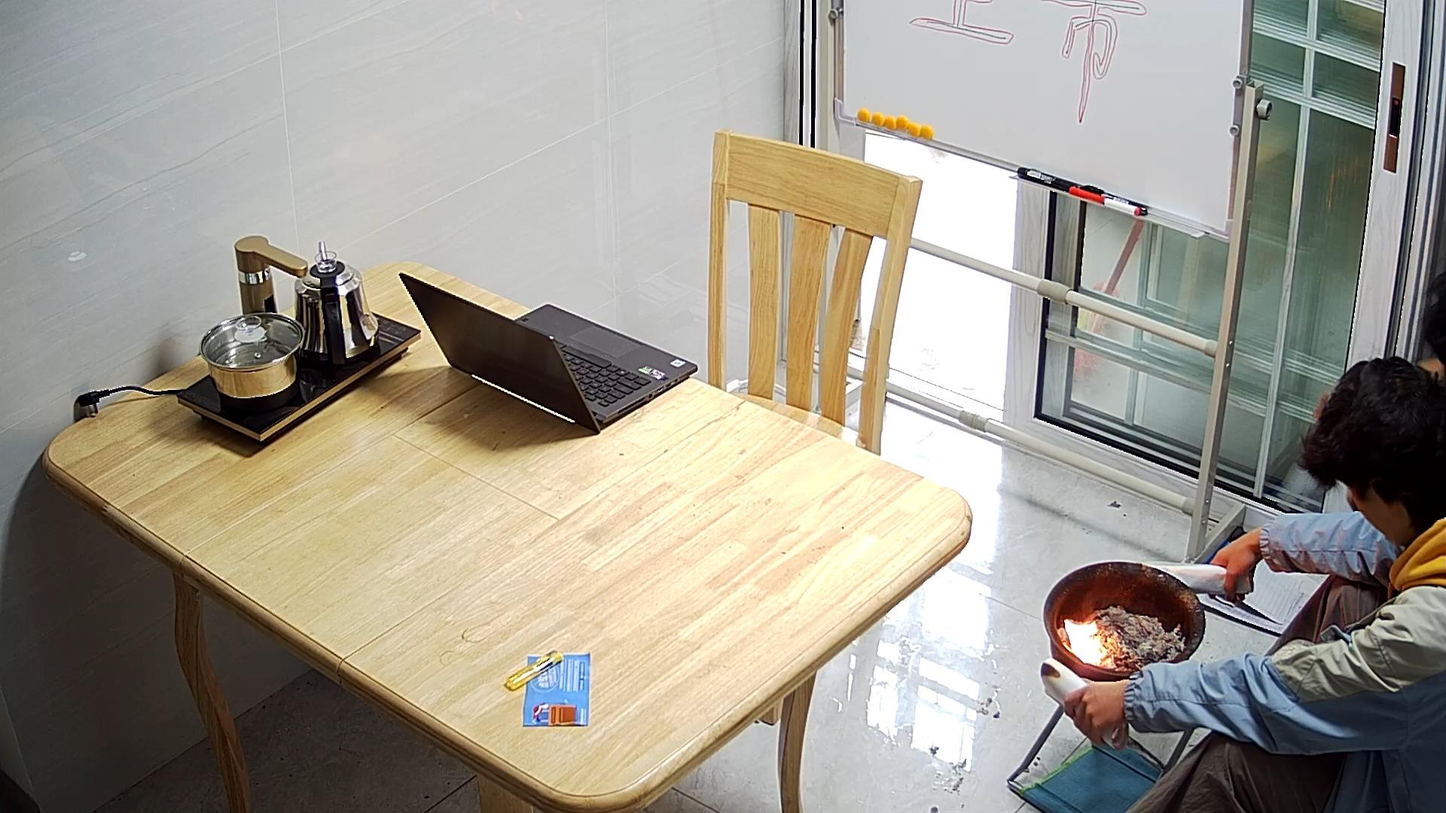fire: (1058, 620, 1115, 668)
